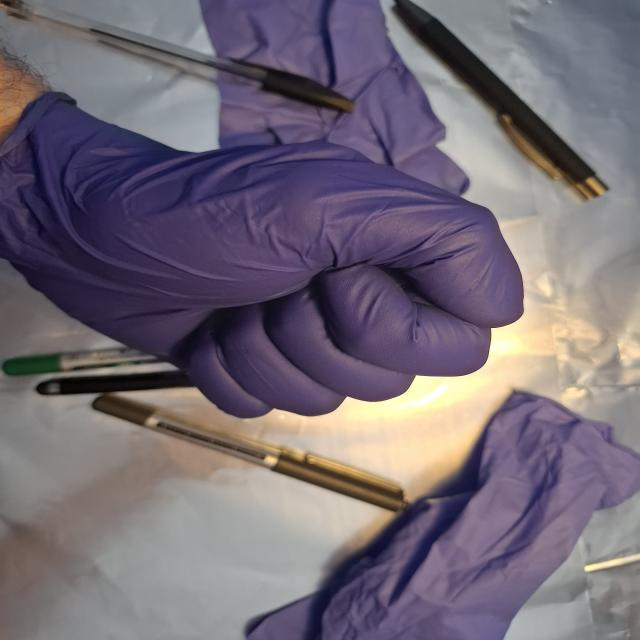glove_on: (6, 116, 529, 421)
